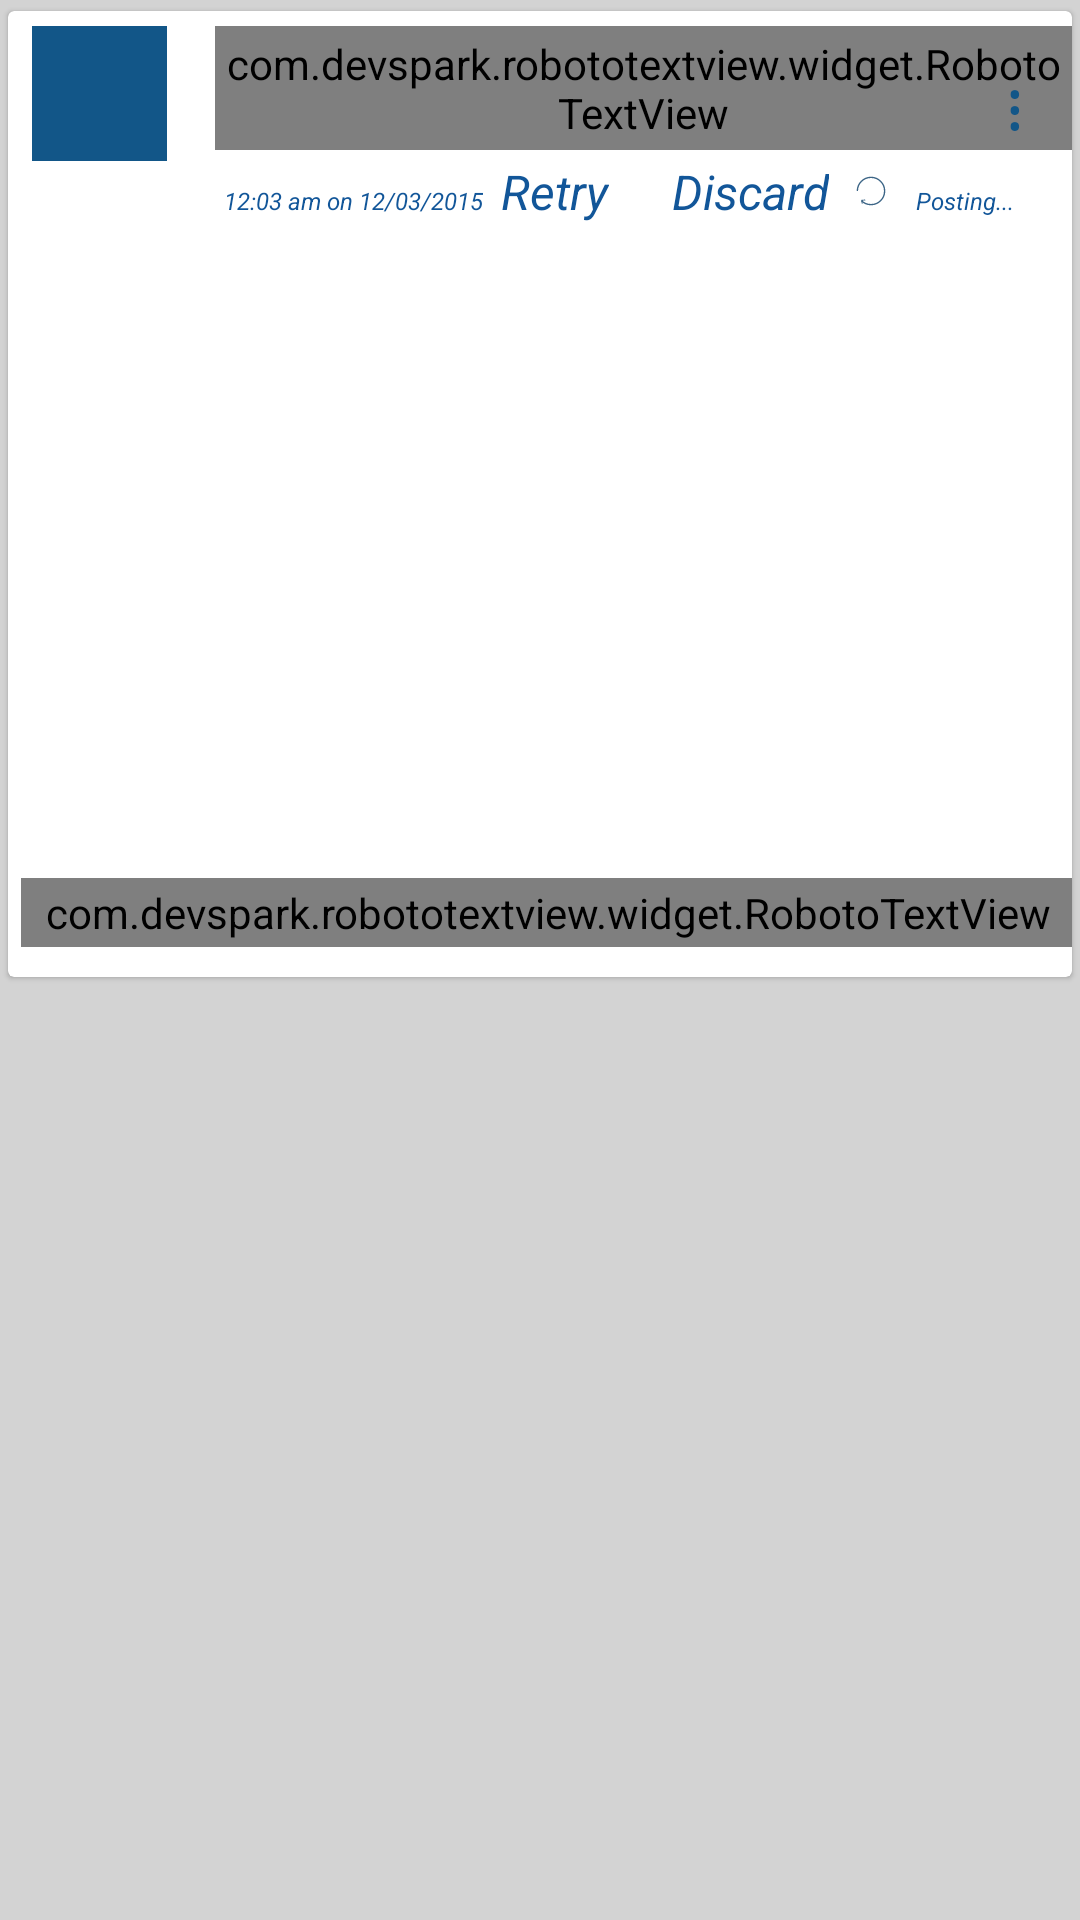

Locate icon controls on the screen. Image size 1080 x 1920, boxes as (x1, y1, x2, y2).
loading: (856, 176, 886, 206)
